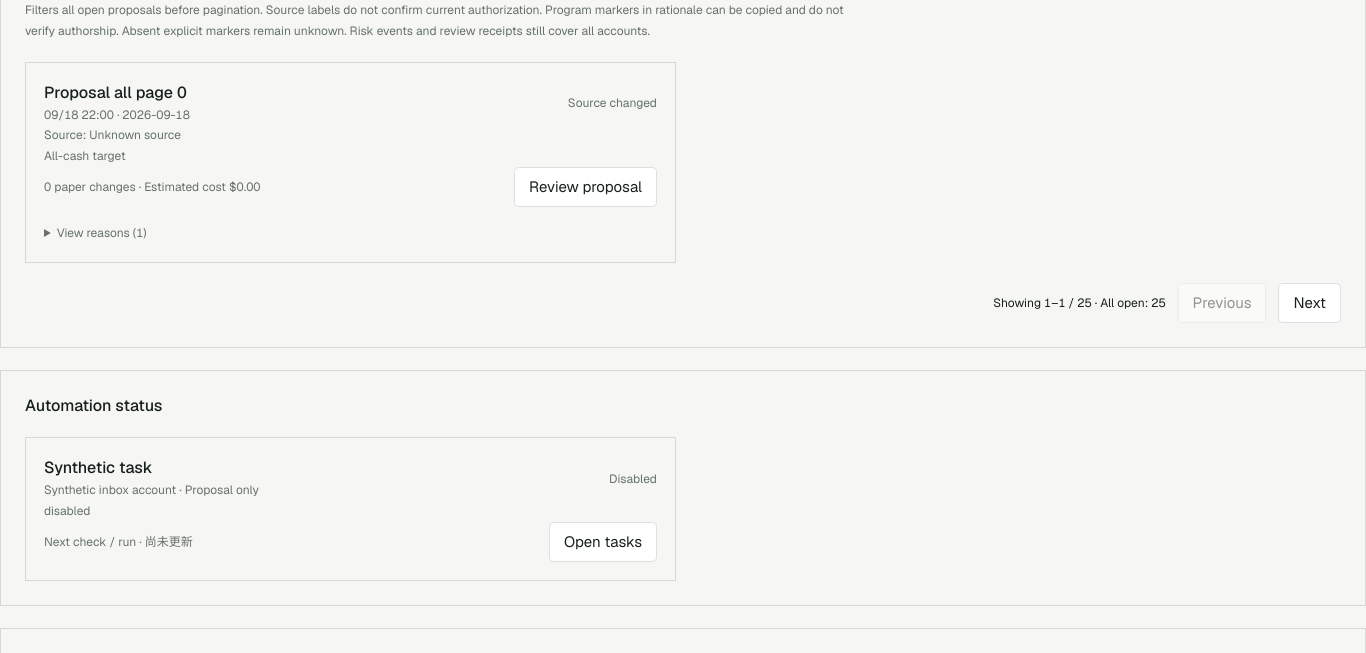
Test case: filters proposals on the server, resets only proposal offset and keeps global attention and counts
(page scrolled)
Step 1. Click the button "Next" → (1310, 303), box [1278,283,1341,323]
(page scrolled)
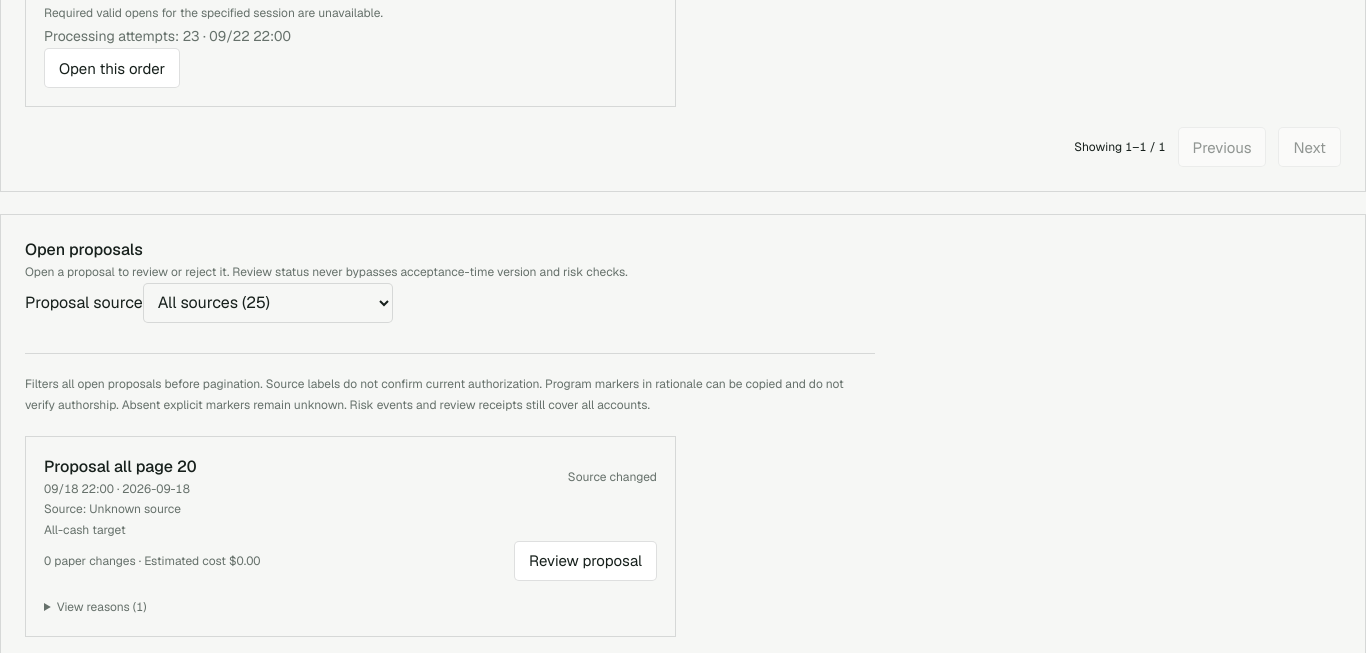
Result: the text "Proposal all page 20" is shown at [44,454,196,478]
Step 2. Select "Automation (3)" in the dropdown labelled "Proposal source" → (268, 302), box [143,282,393,322]
(page scrolled)
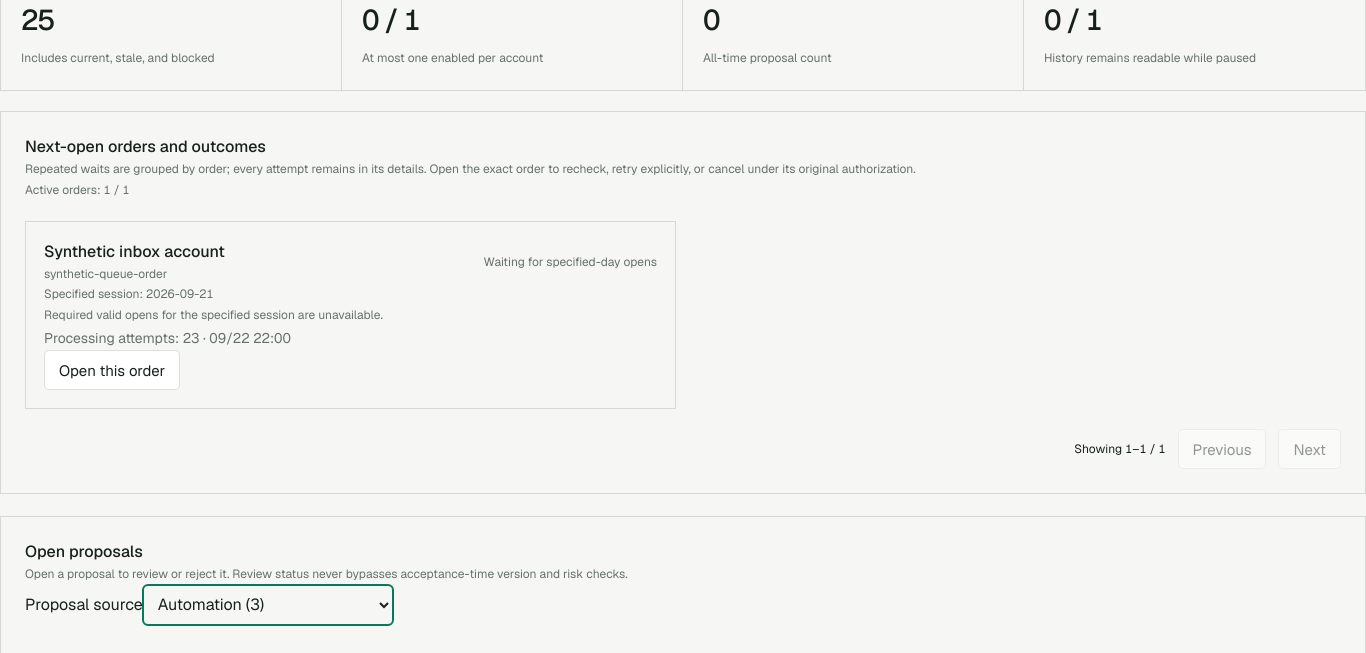
Expected: the element named "Next-open order inbox" is shown, [0,111,1365,494]
Result: the text "Proposal all page 20" is gone
